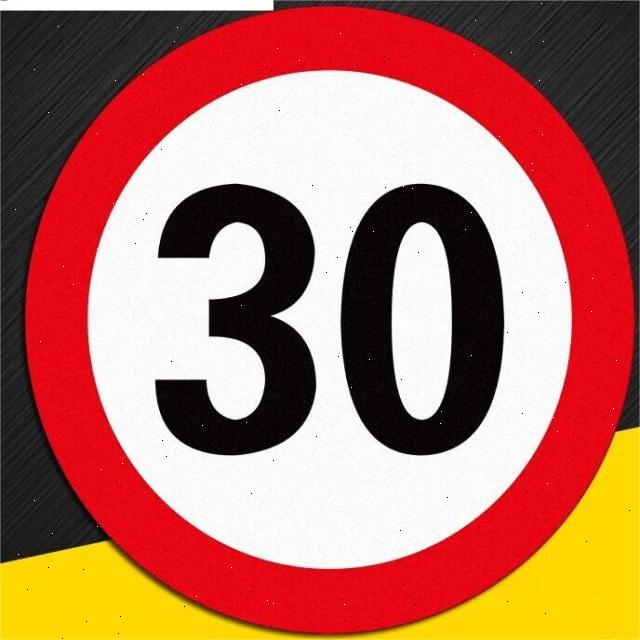speed limit 30: (24, 3, 638, 636)
